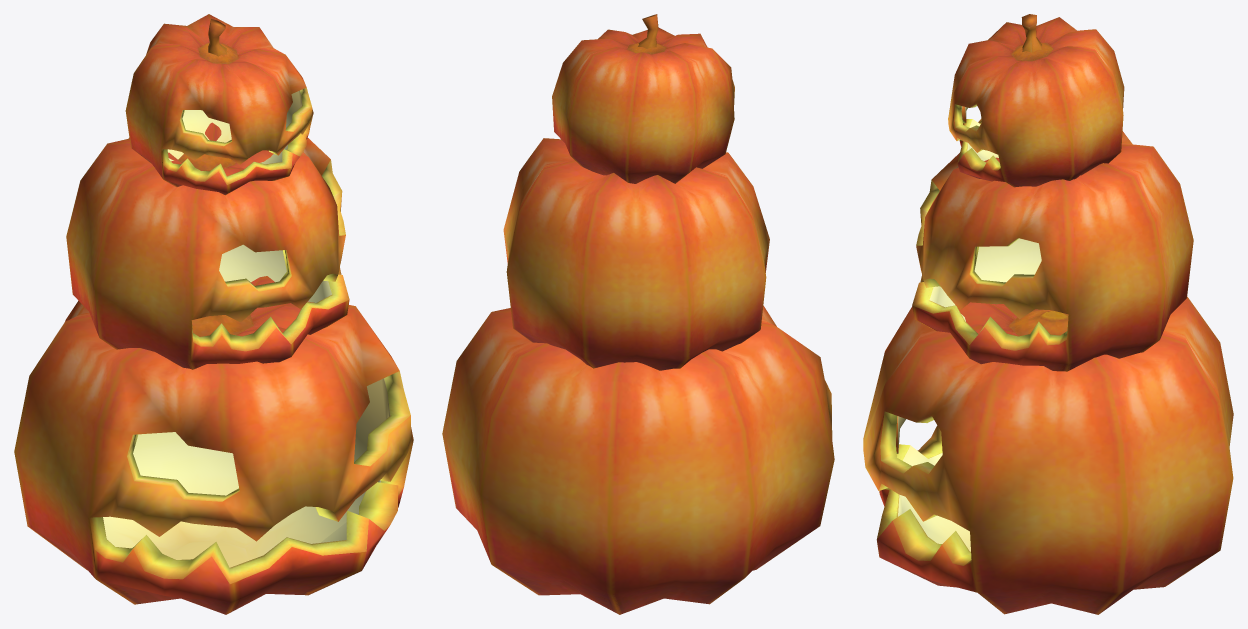
The model's file is pumpkin.fbx.
3 renders of one model, left to right at view 1: azimuth 30°, elevation 25°; view 2: azimuth 150°, elevation 25°; view 3: azimuth 270°, elevation 25°, orthographic.
Parts seen in each view (by area): view 1: pumpkin.001, pumpkinMedium, pumpkinBig; view 2: pumpkin.001, pumpkinMedium, pumpkinBig; view 3: pumpkin.001, pumpkinMedium, pumpkinBig.
Boxes of the visible parts, left/top/right/bottom form: pumpkin.001: left=14, top=276, right=413, bottom=614; pumpkinMedium: left=66, top=122, right=349, bottom=369; pumpkinBig: left=125, top=14, right=313, bottom=195; pumpkin.001: left=442, top=305, right=834, bottom=614; pumpkinMedium: left=503, top=138, right=769, bottom=370; pumpkinBig: left=552, top=14, right=734, bottom=183; pumpkin.001: left=863, top=296, right=1233, bottom=614; pumpkinMedium: left=912, top=131, right=1193, bottom=371; pumpkinBig: left=948, top=14, right=1124, bottom=187.
Size of the model in its own units: 247 by 409 by 247.
1 material, 1 textured.
